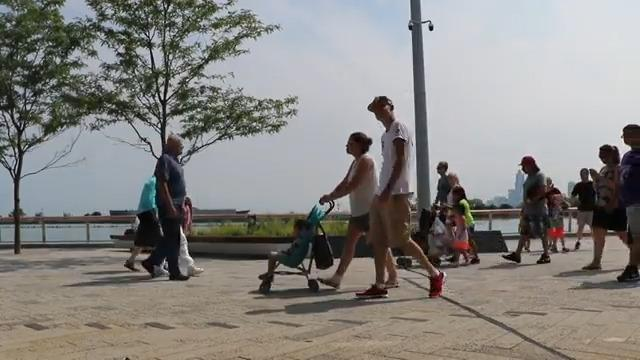no-helmet: (367, 96, 394, 121), (346, 132, 372, 155), (598, 144, 621, 165), (518, 155, 540, 175), (166, 135, 185, 156)
